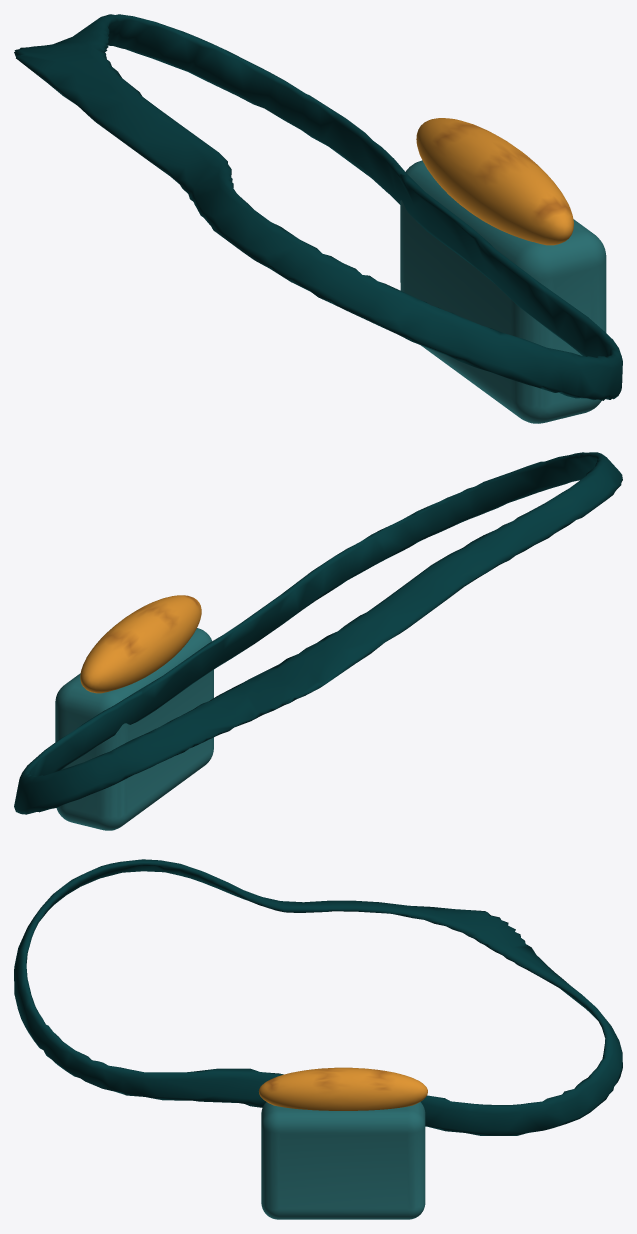
File: tuibanh.glb
The picture shows the model from 3 angles, top to bottom: view 1: azimuth 30°, elevation 25°; view 2: azimuth 150°, elevation 25°; view 3: azimuth 270°, elevation 25°; orthographic projection. The views are drawn at different scales.
Visible parts, largest first — view 1: Quai, Tui, Banh; view 2: Quai, Tui, Banh; view 3: Quai, Tui, Banh.
Part boxes in pixels (left/top/right/bottom): Quai: left=14, top=14, right=622, bottom=400; Tui: left=400, top=160, right=606, bottom=423; Banh: left=416, top=118, right=573, bottom=245; Quai: left=14, top=452, right=622, bottom=814; Tui: left=55, top=628, right=213, bottom=830; Banh: left=80, top=595, right=201, bottom=693; Quai: left=14, top=859, right=622, bottom=1135; Tui: left=261, top=1102, right=425, bottom=1219; Banh: left=259, top=1067, right=427, bottom=1110.
Bounding box in the file's own units: 0.2357 × 0.1798 × 0.4304.
